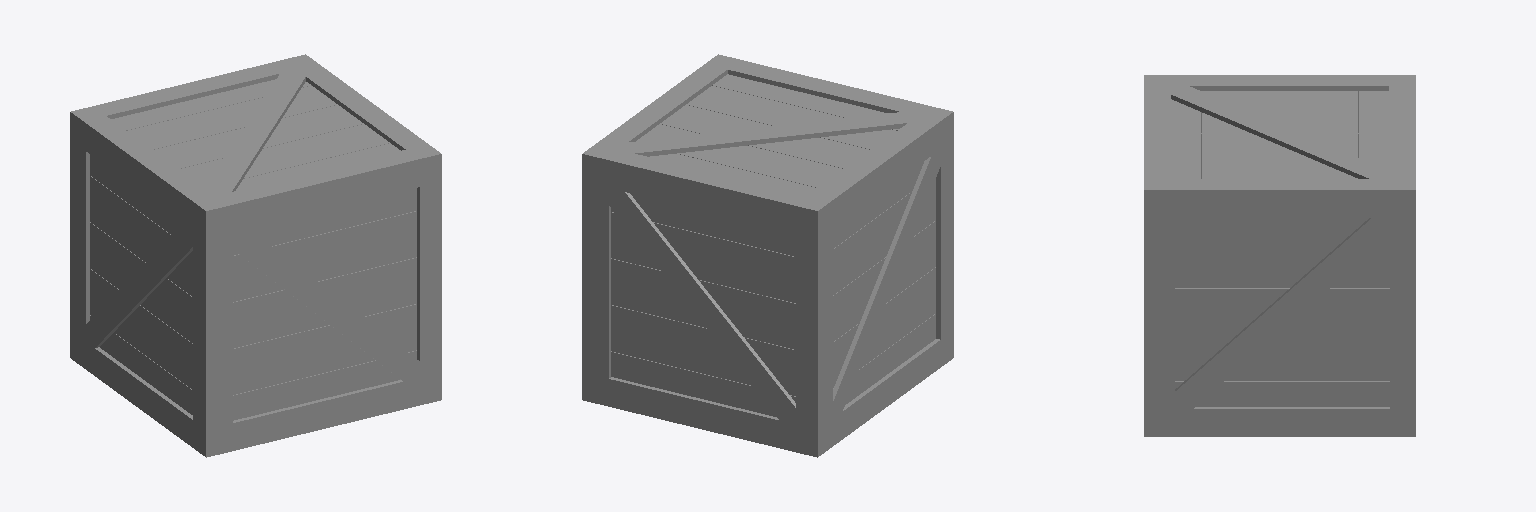
Rendered from Crate04_blend.obj.
3 views of the same model, side by side, from view 1: azimuth 30°, elevation 25°; view 2: azimuth 150°, elevation 25°; view 3: azimuth 270°, elevation 25° (orthographic).
Parts seen in each view (by area): view 1: Crate_04_case, Crate_04_cover; view 2: Crate_04_case, Crate_04_cover; view 3: Crate_04_case, Crate_04_cover.
Boxes of the visible parts, <box> form: Crate_04_case: <box>70,117,441,457</box>; Crate_04_cover: <box>70,54,441,215</box>; Crate_04_case: <box>582,117,953,457</box>; Crate_04_cover: <box>582,54,953,215</box>; Crate_04_case: <box>1144,91,1415,436</box>; Crate_04_cover: <box>1144,75,1415,194</box>.
Size of the model in its own units: 0.53 by 0.53 by 0.53.